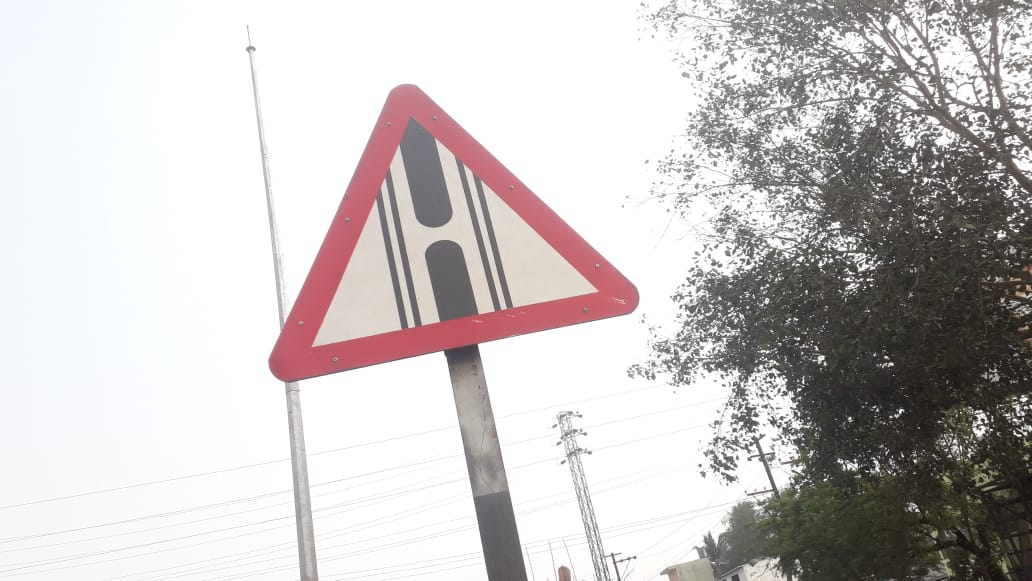highway go straight: (248, 64, 655, 376)
